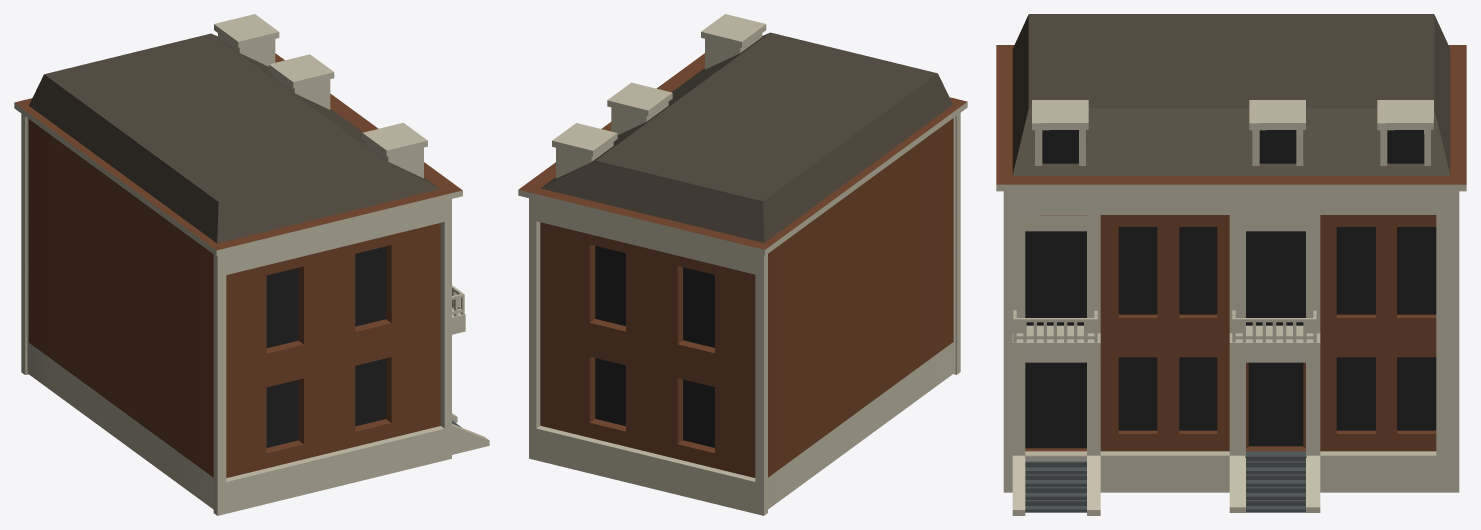
File: Gracht.fbx
3 views of the same model, side by side, from view 1: azimuth 30°, elevation 25°; view 2: azimuth 150°, elevation 25°; view 3: azimuth 270°, elevation 25° (orthographic). The views are drawn at different scales.
Parts seen in each view (by area): view 1: pCube36; view 2: pCube36; view 3: pCube36.
Boxes of the visible parts, box(x1,y1,x2,y2) form: pCube36: box(14, 14, 489, 515); pCube36: box(518, 14, 967, 515); pCube36: box(996, 14, 1466, 515).
Size of the model in its own units: 0.1051 by 0.112 by 0.1315.
